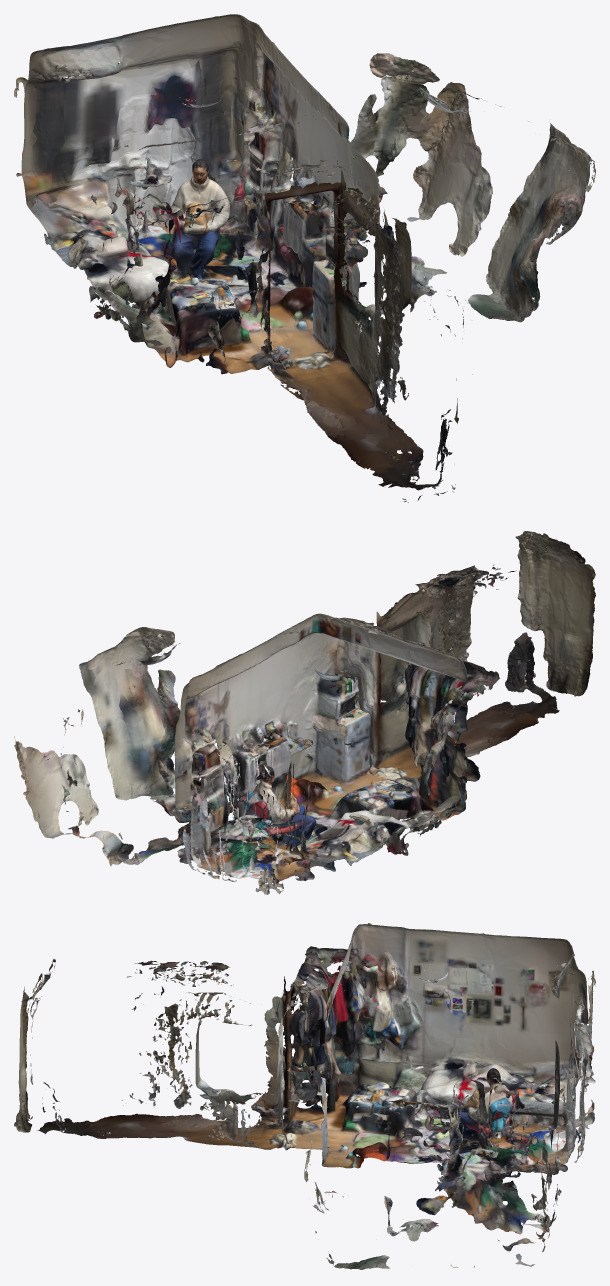
Rendered from MIMI WEB.glb.
3 views of the same model, one above another, from view 1: azimuth 30°, elevation 25°; view 2: azimuth 150°, elevation 25°; view 3: azimuth 270°, elevation 25° (orthographic). The views are drawn at different scales.
Parts seen in each view (by area): view 1: mesh; view 2: mesh; view 3: mesh.
Part boxes in pixels (box(x1,y1,x2,y2)): mesh: box(14, 14, 595, 502); mesh: box(14, 531, 595, 894); mesh: box(14, 923, 595, 1269).
Bounding box in the file's own units: 5.63 × 3 × 7.77.
1 material, 1 textured.
